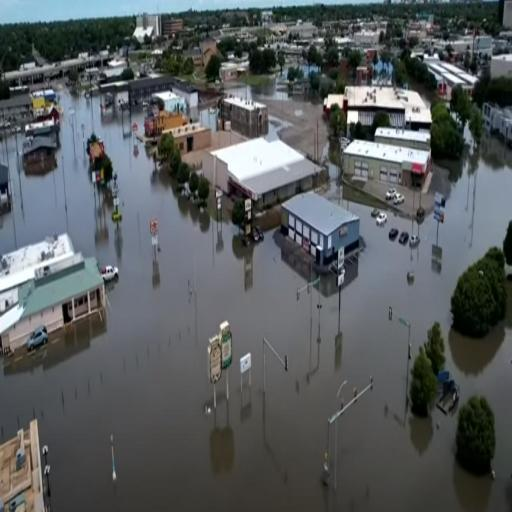flood: (0, 91, 512, 510), (247, 79, 289, 101), (265, 113, 292, 140), (373, 57, 394, 83), (199, 105, 218, 130), (224, 84, 246, 97)
house: (0, 229, 108, 364), (207, 144, 320, 211), (280, 188, 360, 269), (344, 137, 435, 203), (0, 418, 54, 512), (325, 86, 433, 132), (220, 94, 268, 138), (111, 74, 173, 108), (482, 99, 512, 156), (163, 125, 214, 156), (20, 135, 58, 175), (133, 10, 163, 50), (30, 86, 57, 116)
